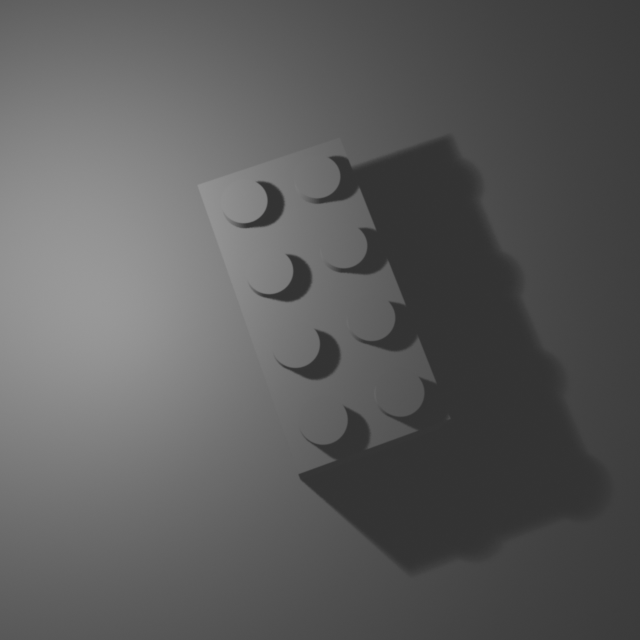lego_2x4: (195, 131, 453, 480)
